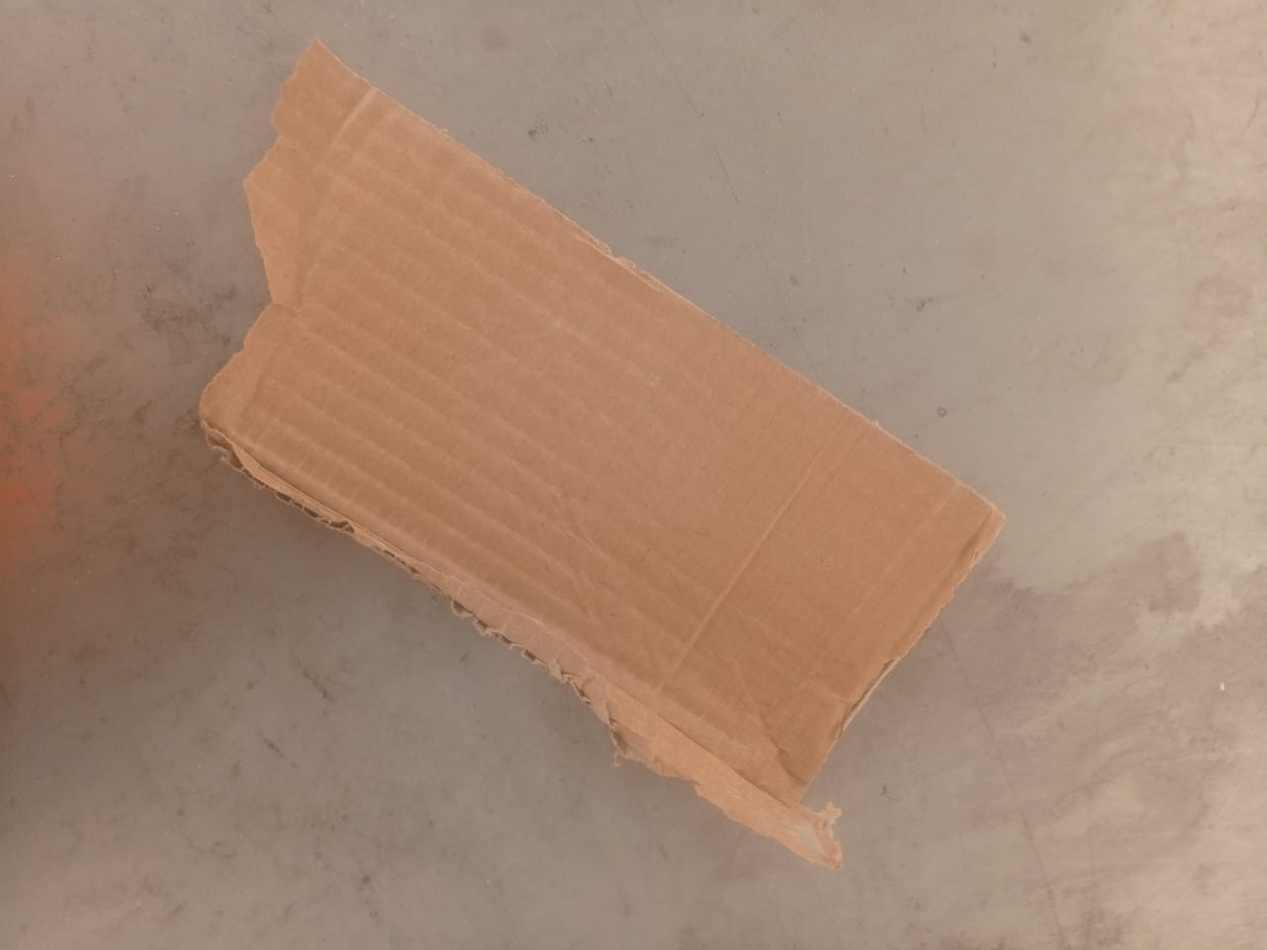Carton: (201, 36, 1005, 872)
